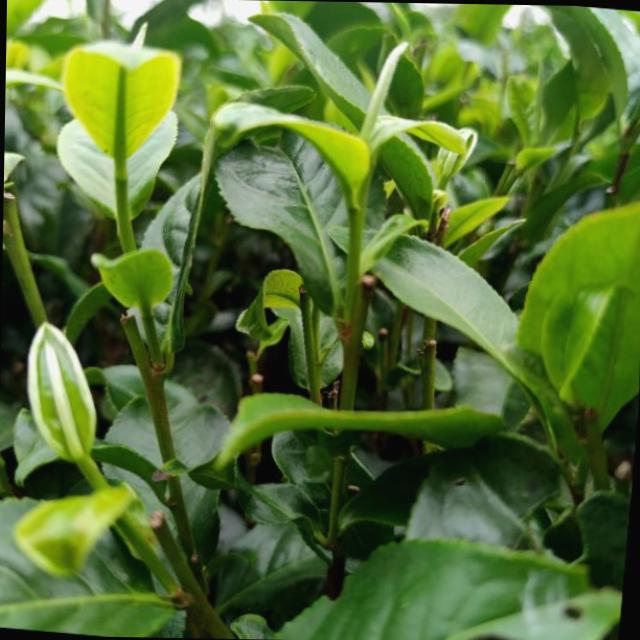Stem: (348, 211, 363, 234), (115, 178, 126, 197)
